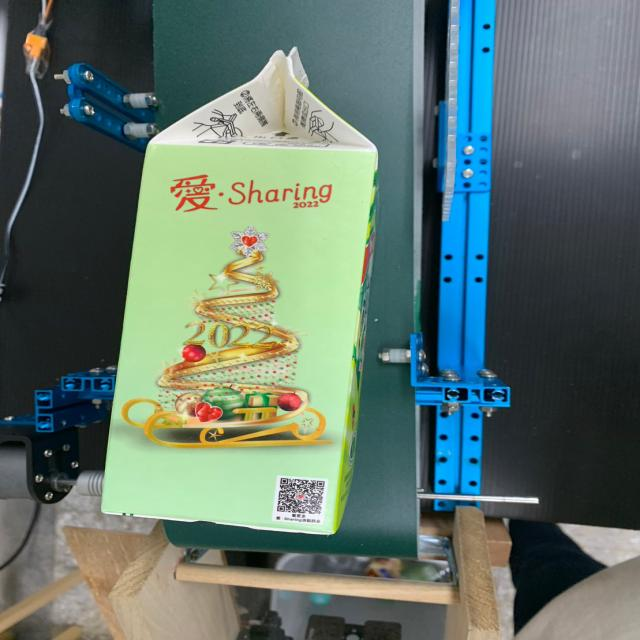non_white_jug: (103, 48, 404, 565)
